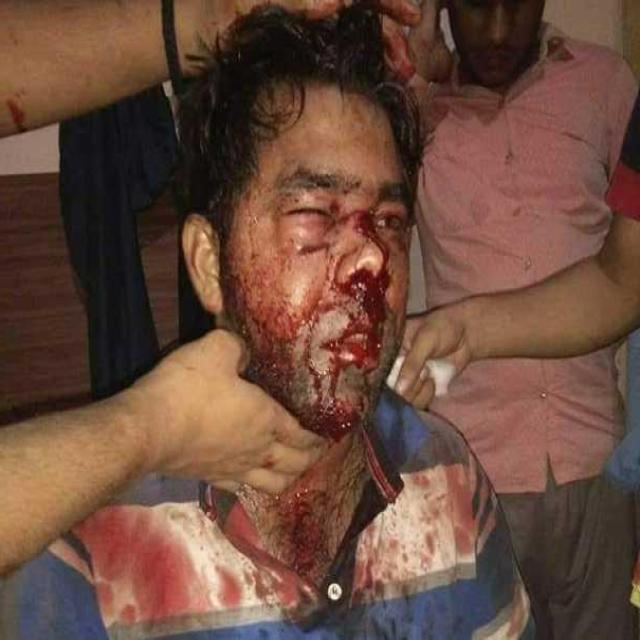flood: (208, 92, 418, 574)
